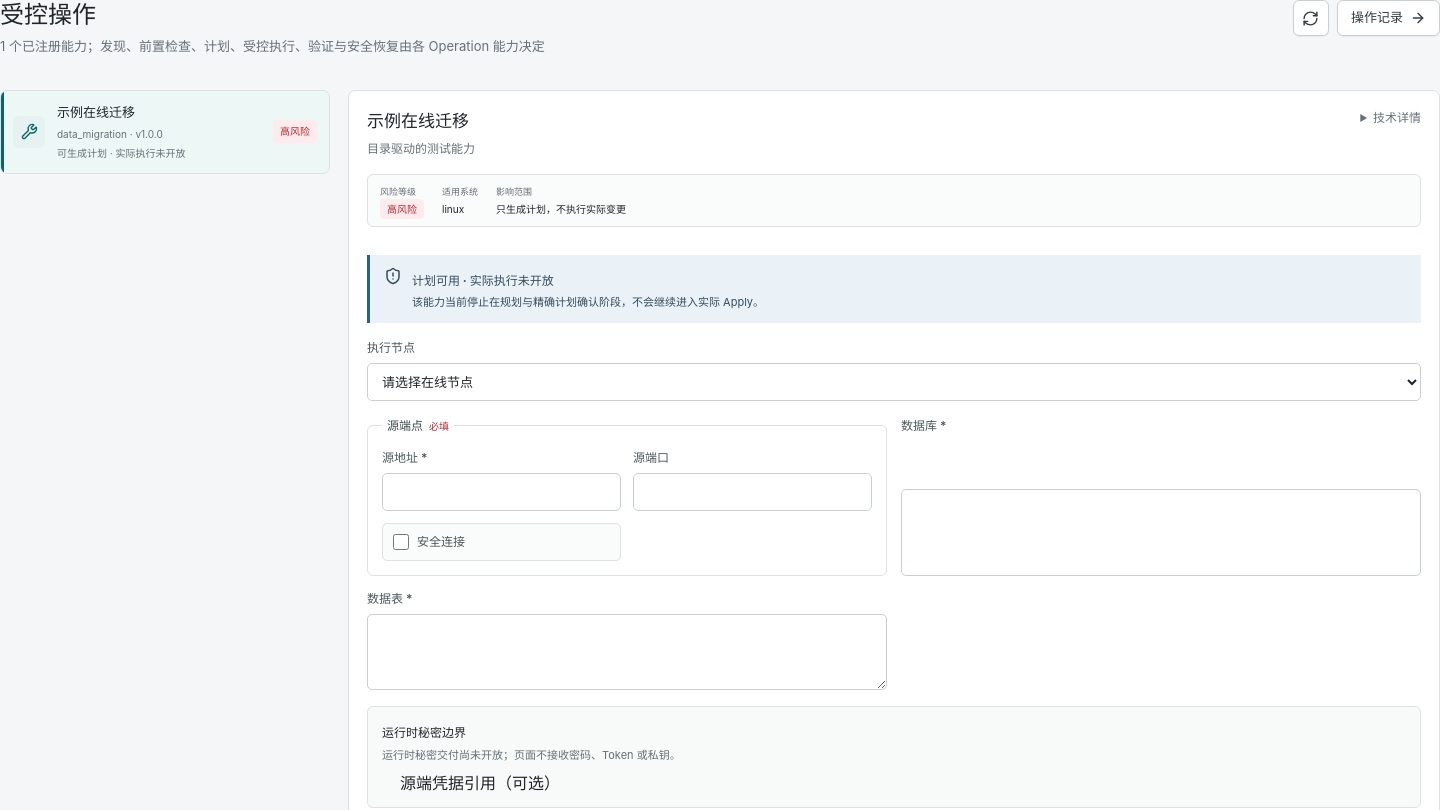
Test: OperationsPage › renders a structured Server 400 without losing the submitted form
Expected: the heading "示例在线迁移" is shown, [367,109,475,134]
Step 1. Select "node-one · linux test" in the dropdown labelled "执行节点" → coordinates (894, 382), box [367,363,1421,401]
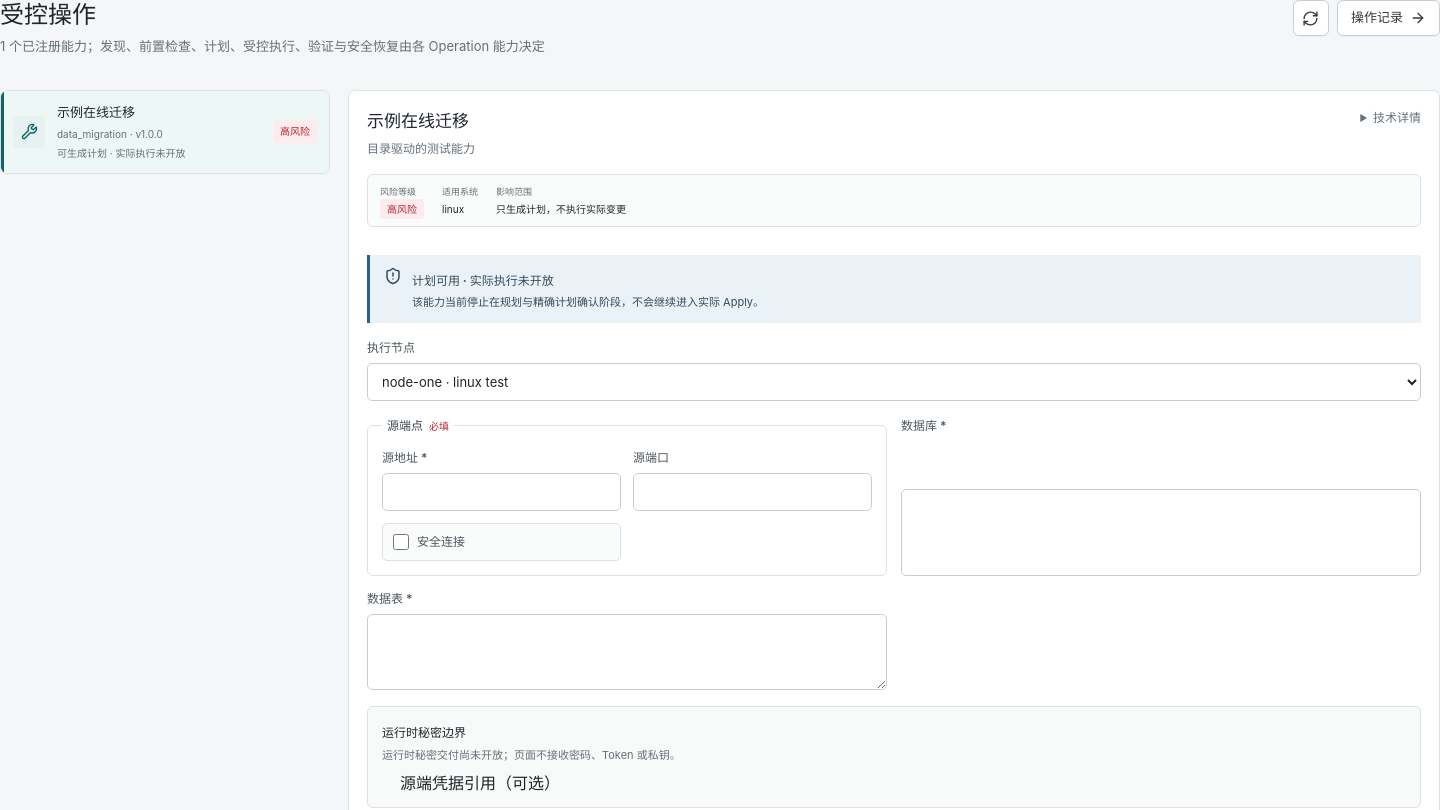
Step 2. Type "source.internal" into the field labelled "源地址 *" → coordinates (502, 492), box [382,473,621,511]
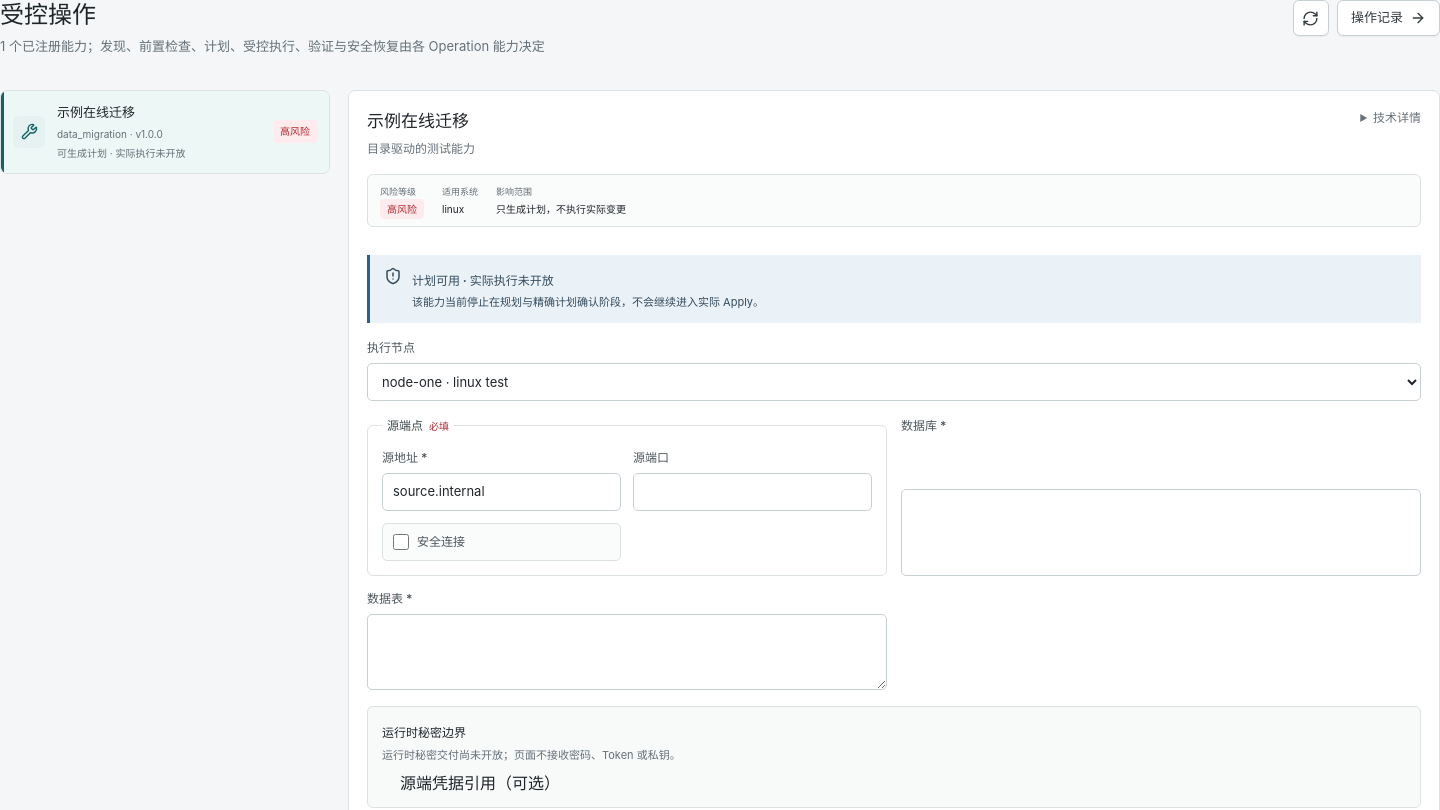
Step 3. Type "events" into the field labelled "数据库 *" → coordinates (1161, 532), box [901,489,1421,576]
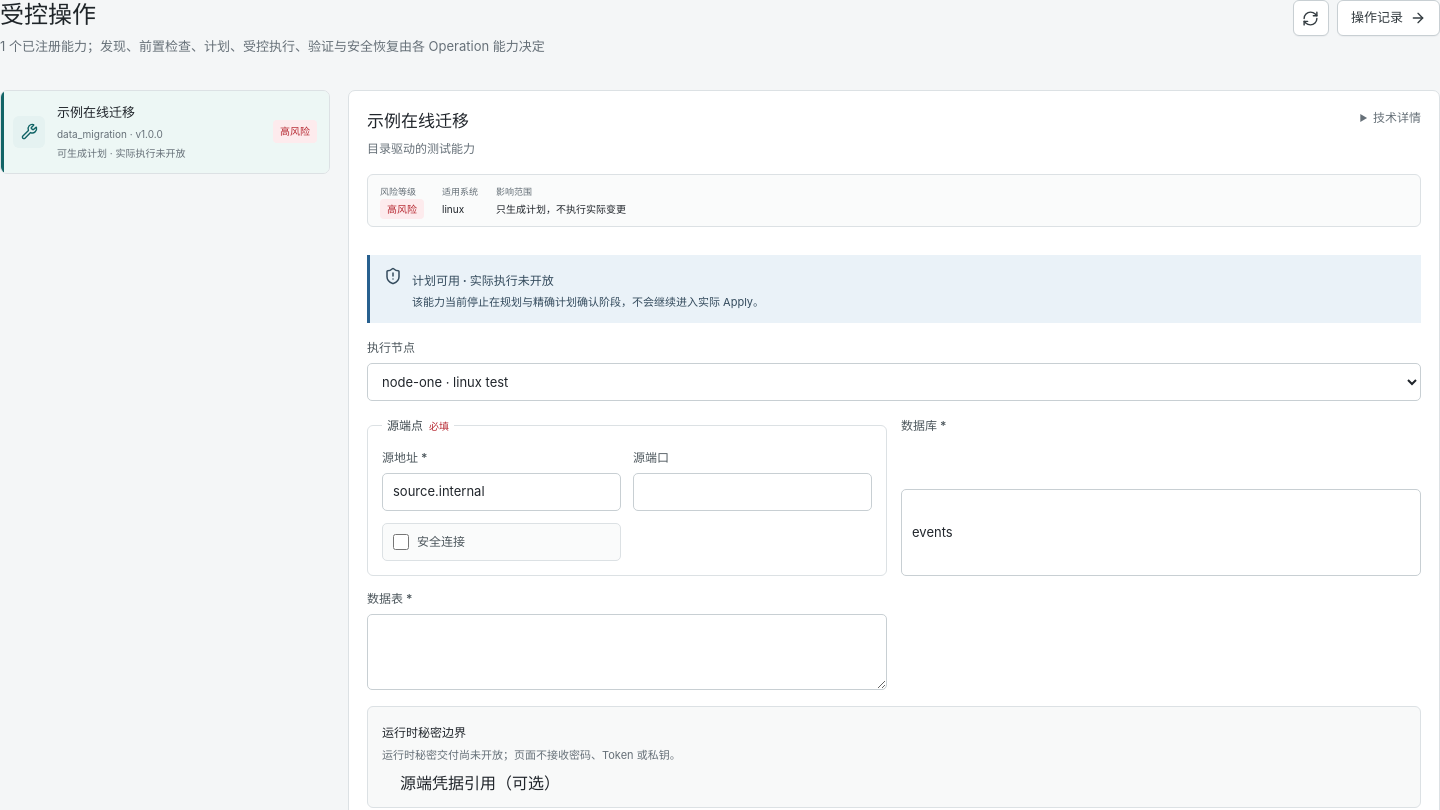
Step 4. Type "history" into the text box labelled "数据表 *" → coordinates (627, 652), box [367,614,887,690]
(page scrolled)
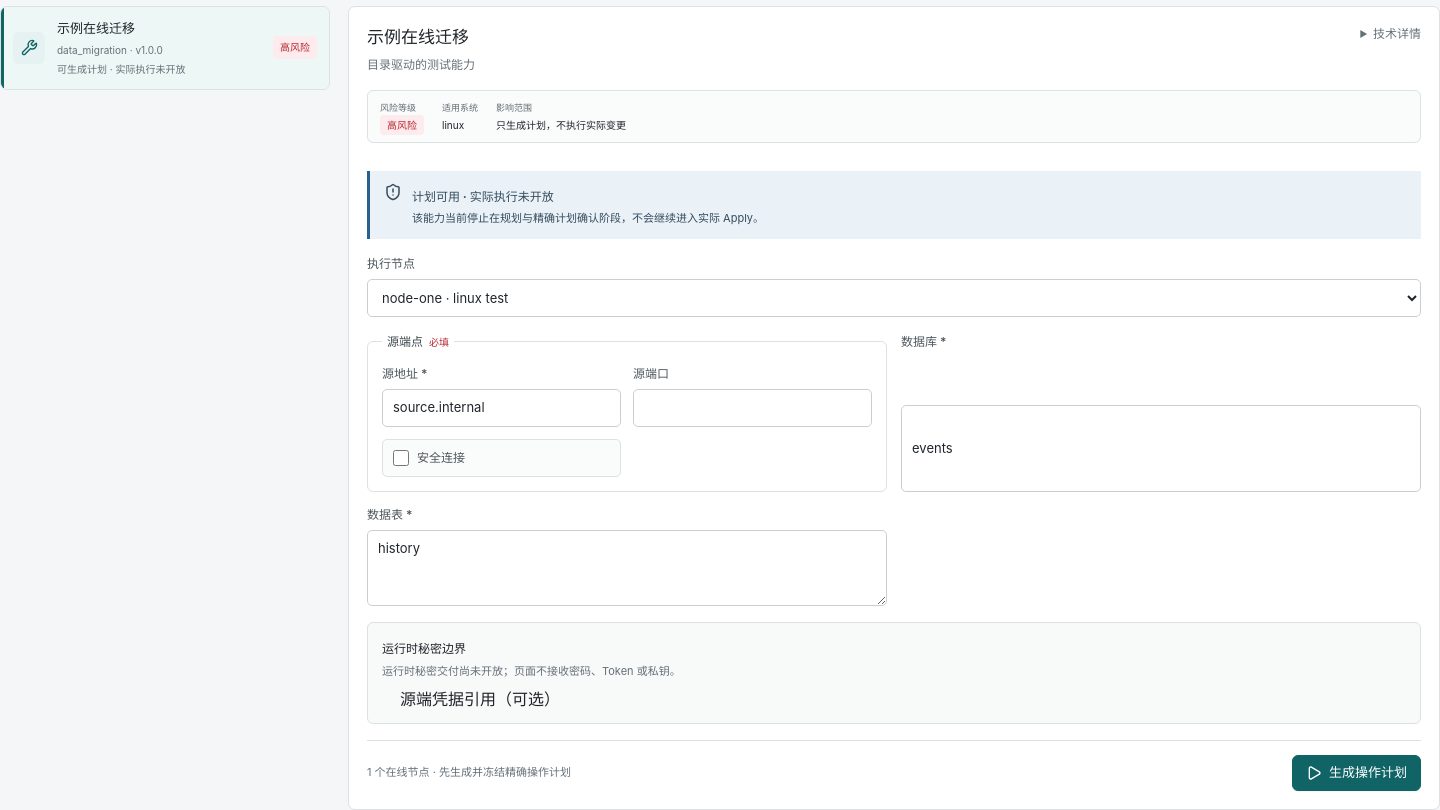
Step 5. Click the button "生成操作计划" → coordinates (1356, 773), box [1292,755,1421,791]
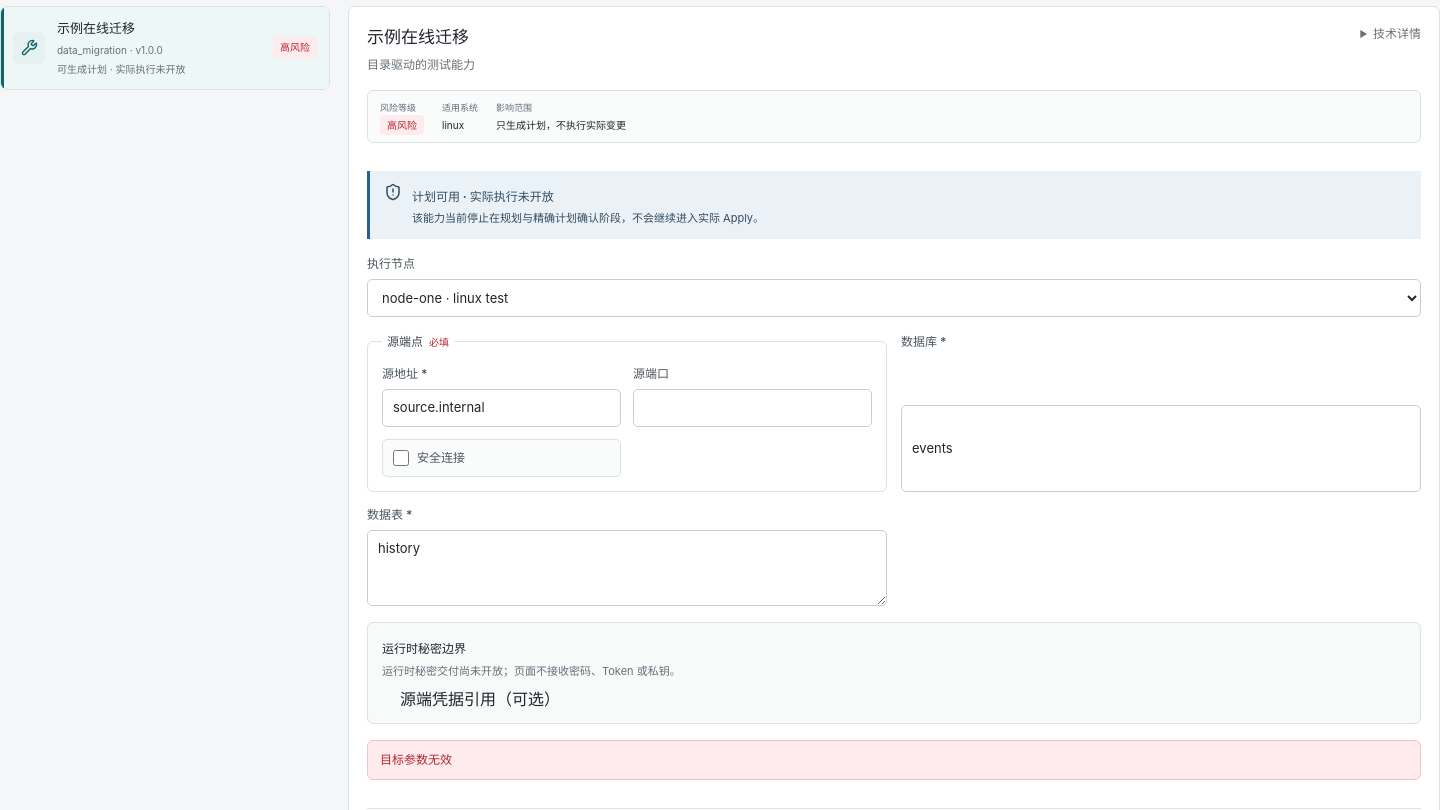
Result: the message reads "目标参数无效" at [380,752,452,767]
